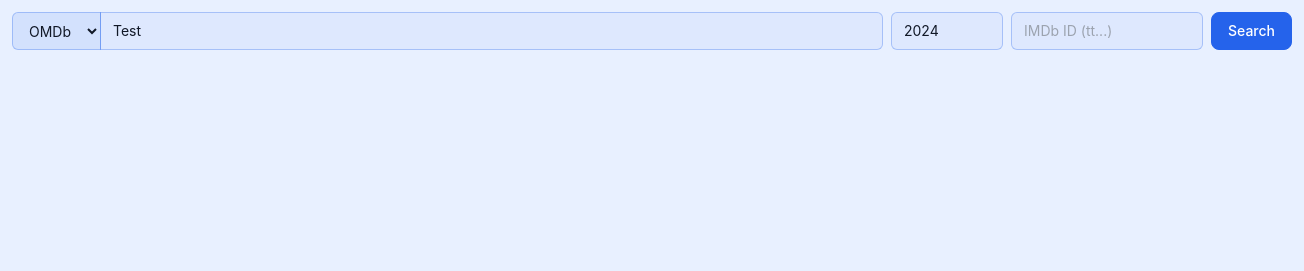
TitleSearch › interactions › does direct IMDb lookup when IMDb ID is entered
Type "tt9999" into the field with placeholder "IMDb ID (tt...)" at x=1107, y=31, box x1=1011 y1=12 x2=1203 y2=50
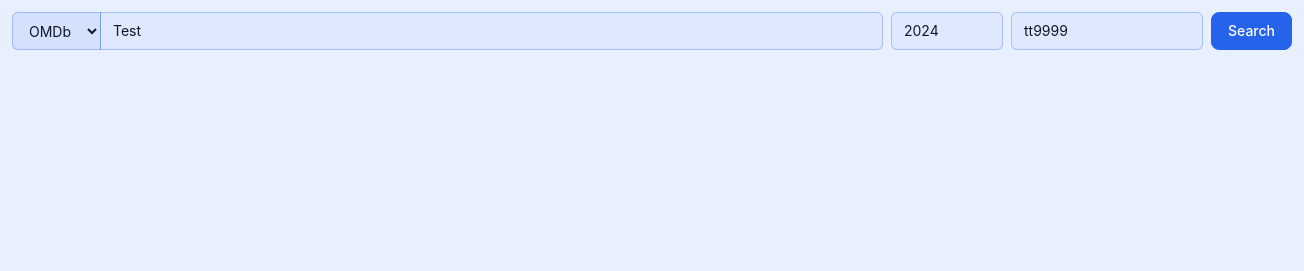
Click the button "Search" at x=1252, y=31, box x1=1211 y1=12 x2=1292 y2=50
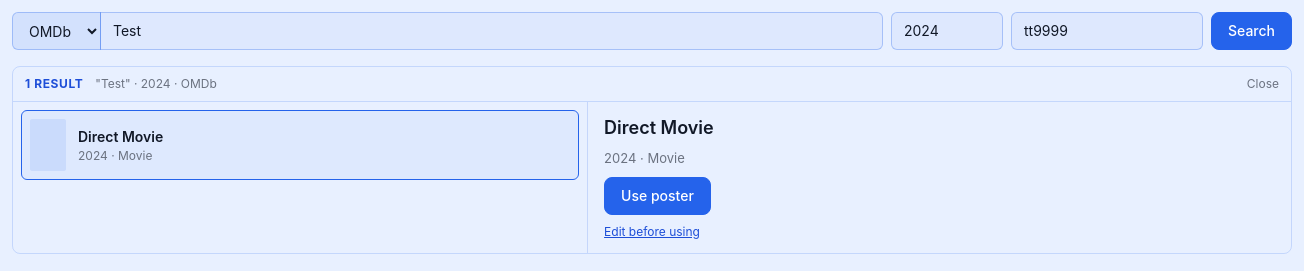
Check: the heading "Direct Movie" is shown, box x1=604 y1=117 x2=714 y2=138
